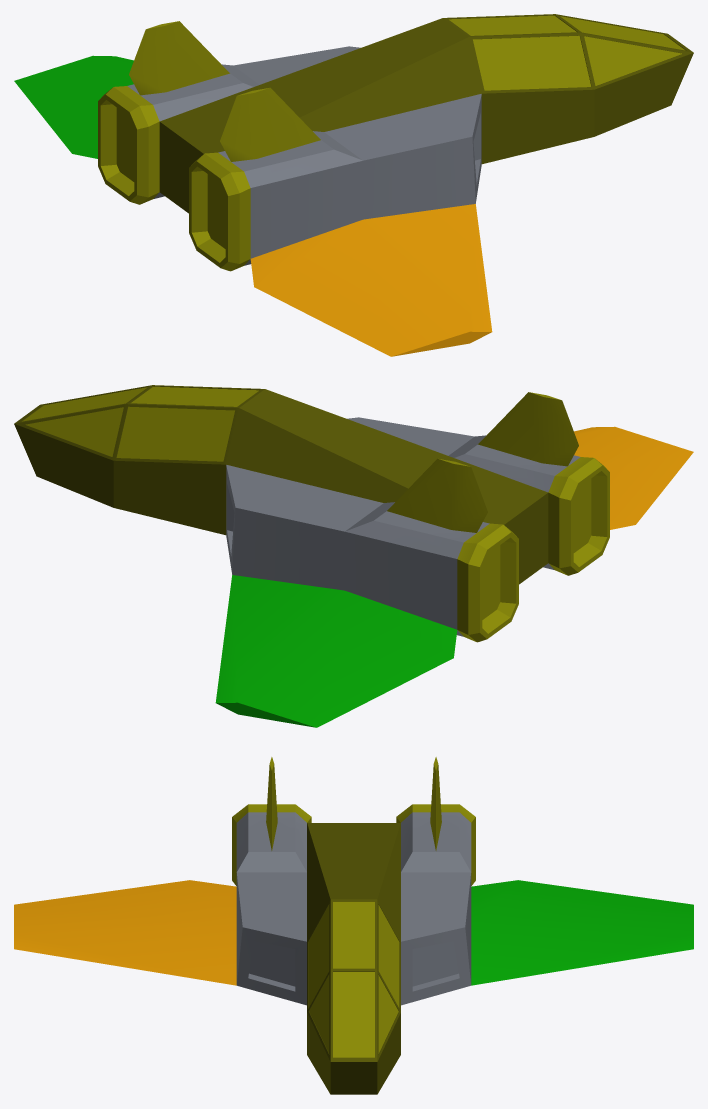
File: Ship_UV_mapped.fbx
The picture shows the model from 3 angles, top to bottom: view 1: azimuth 30°, elevation 25°; view 2: azimuth 150°, elevation 25°; view 3: azimuth 270°, elevation 25°; orthographic projection. The views are drawn at different scales.
Visible parts, largest first — view 1: Ship; view 2: Ship; view 3: Ship.
Boxes of the visible parts, <box> form: Ship: <box>14,14,693,356</box>; Ship: <box>14,385,693,727</box>; Ship: <box>14,757,693,1094</box>.
Size of the model in its own units: 11.5 by 3.5 by 14.5.
